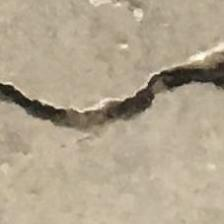Crack: (0, 39, 224, 160)
